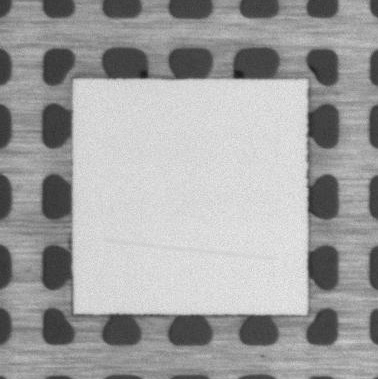DIE_CRACK: (103, 241, 276, 260)
